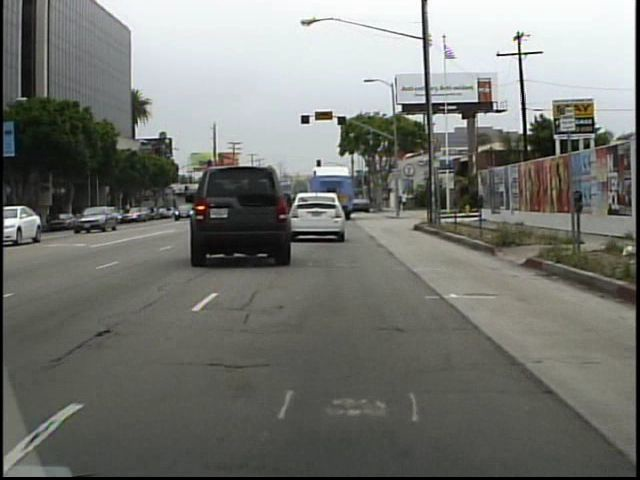person: (401, 188, 411, 214), (395, 189, 404, 214)
